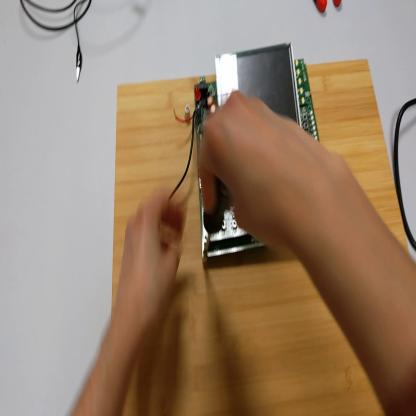hand: (201, 88, 330, 251), (116, 190, 183, 339)
low voltage board: (171, 48, 319, 261)
pliers: (315, 1, 344, 14)
screwdriver-: (202, 169, 225, 250)
working area: (112, 62, 416, 416)
